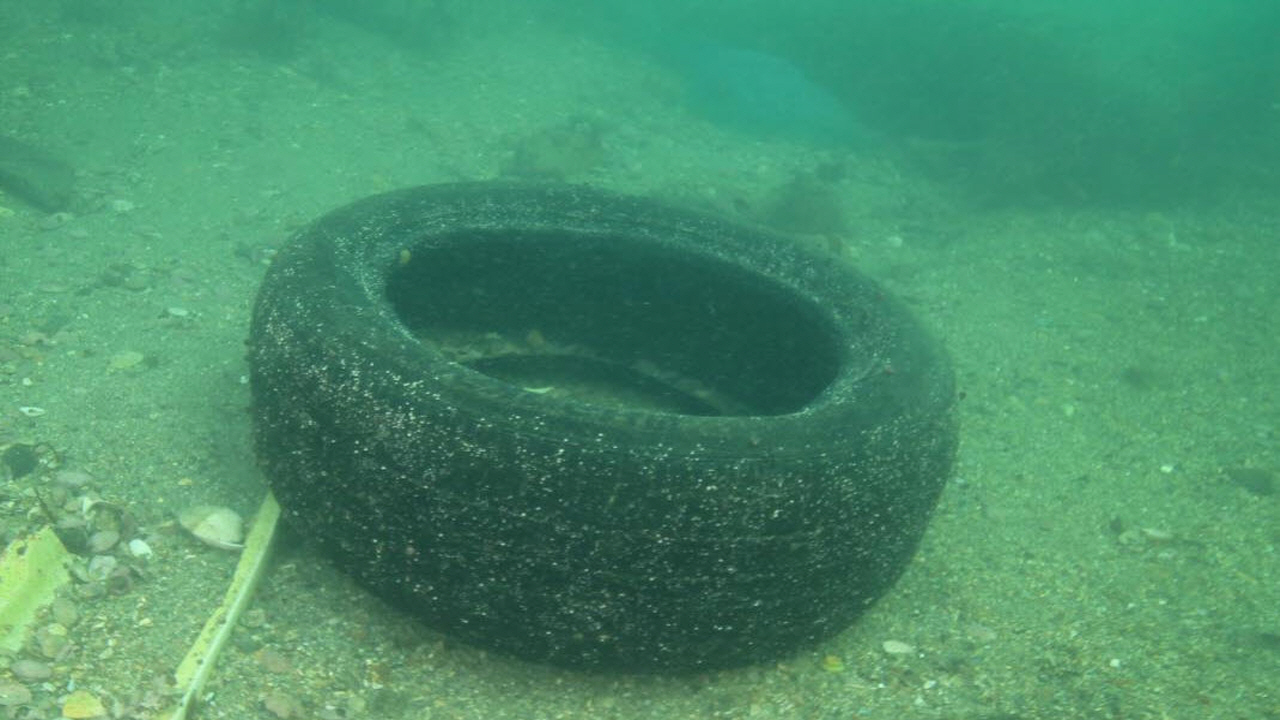tire: (245, 176, 958, 669)
